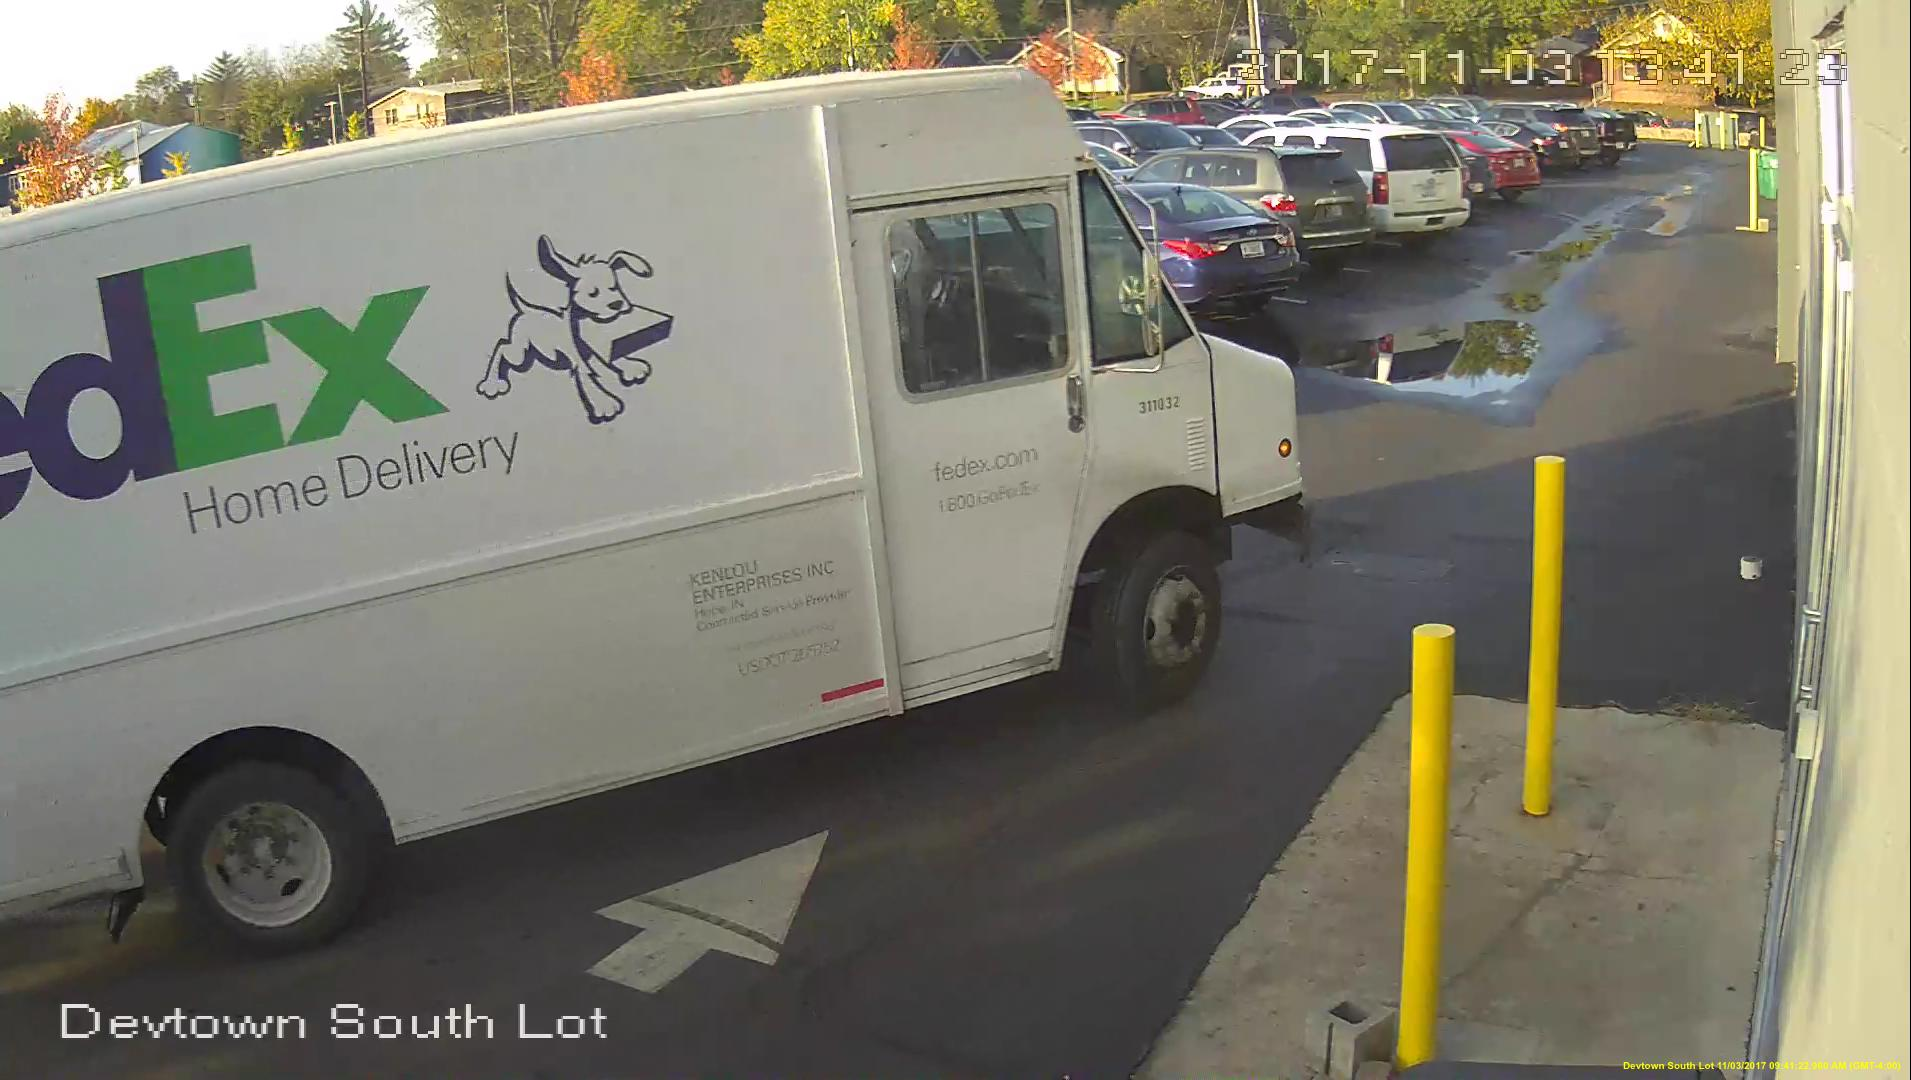fedex_truck: (1, 66, 1307, 944)
